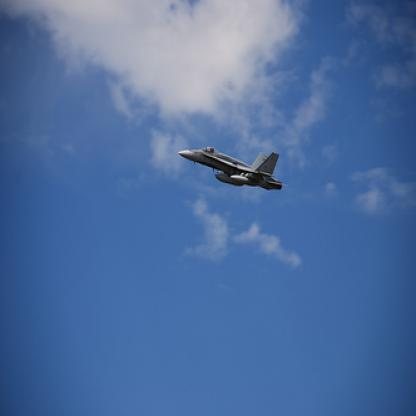aeroplane: (175, 144, 283, 192)
